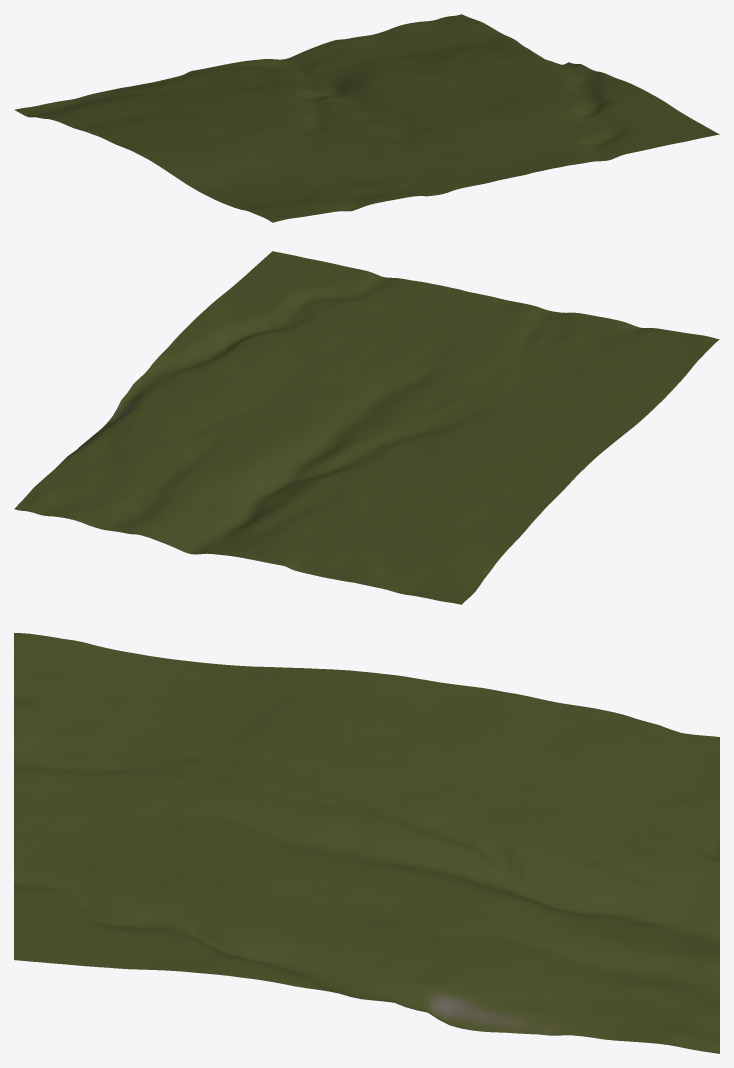
The model's file is terrain_12_-9.glb.
The picture shows the model from 3 angles, top to bottom: view 1: azimuth 30°, elevation 25°; view 2: azimuth 150°, elevation 25°; view 3: azimuth 270°, elevation 25°; orthographic projection. The views are drawn at different scales.
Visible parts, largest first — view 1: terrain_12_-9; view 2: terrain_12_-9; view 3: terrain_12_-9.
Part boxes in pixels (bbox=[...]): terrain_12_-9: bbox=[14, 14, 719, 222]; terrain_12_-9: bbox=[14, 251, 719, 604]; terrain_12_-9: bbox=[14, 633, 719, 1053].
Size of the model in its own units: 256 by 50.12 by 256.
